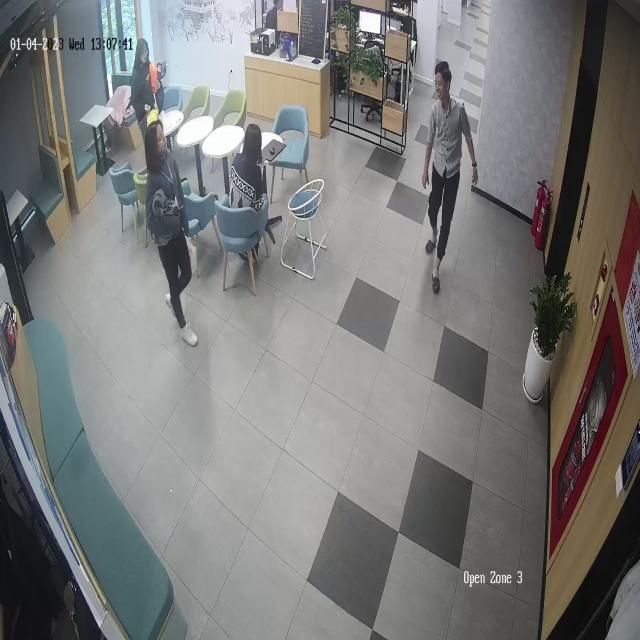person: (422, 59, 479, 295), (145, 122, 199, 346), (229, 122, 276, 259), (130, 37, 168, 132)
